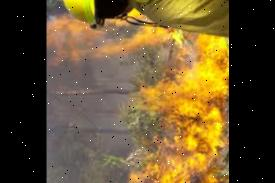fire: (100, 35, 229, 183)
